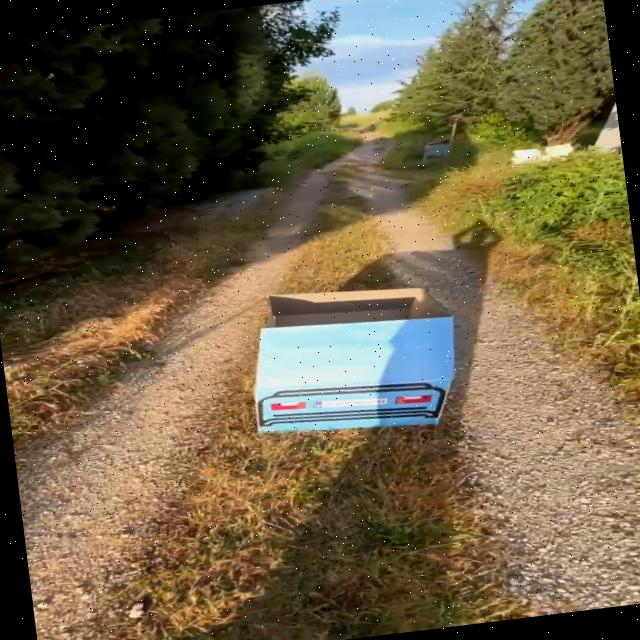blue_car: (166, 221, 526, 471)
